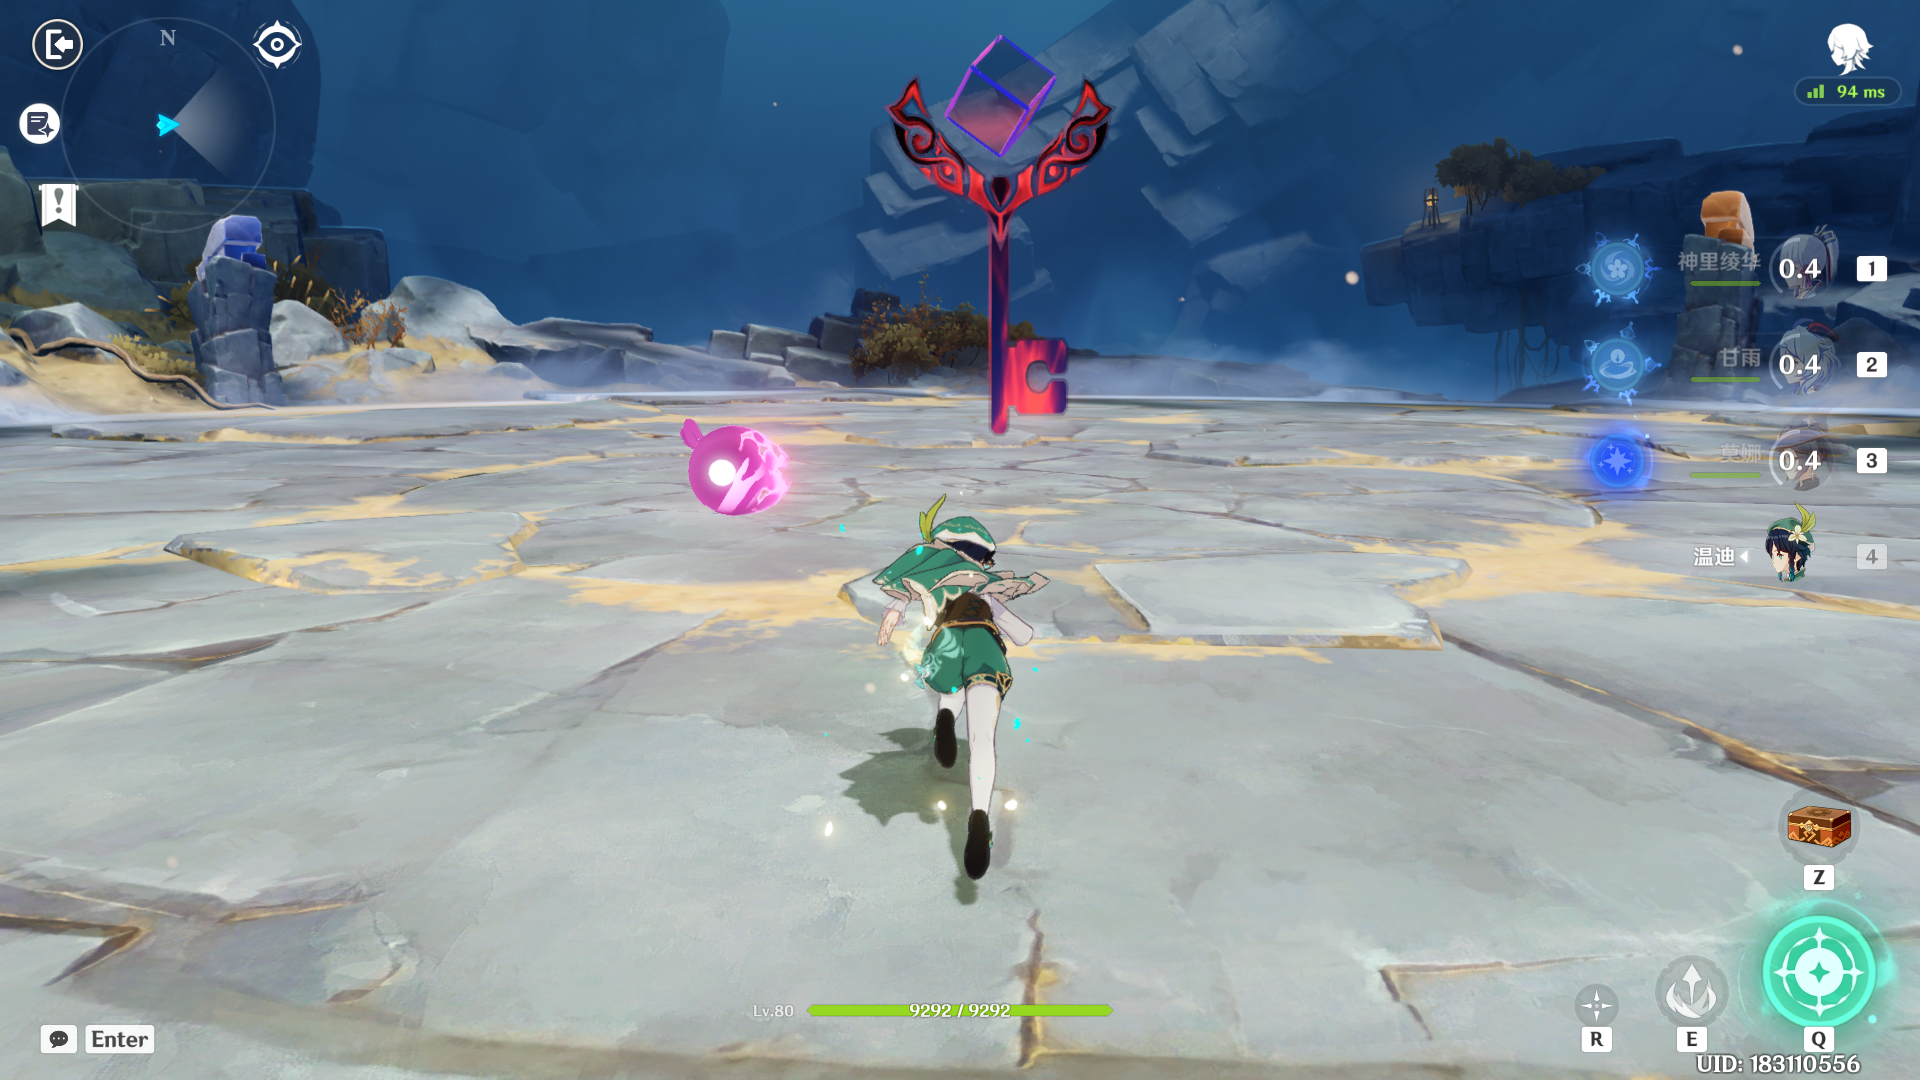character: (791, 495, 1062, 907)
